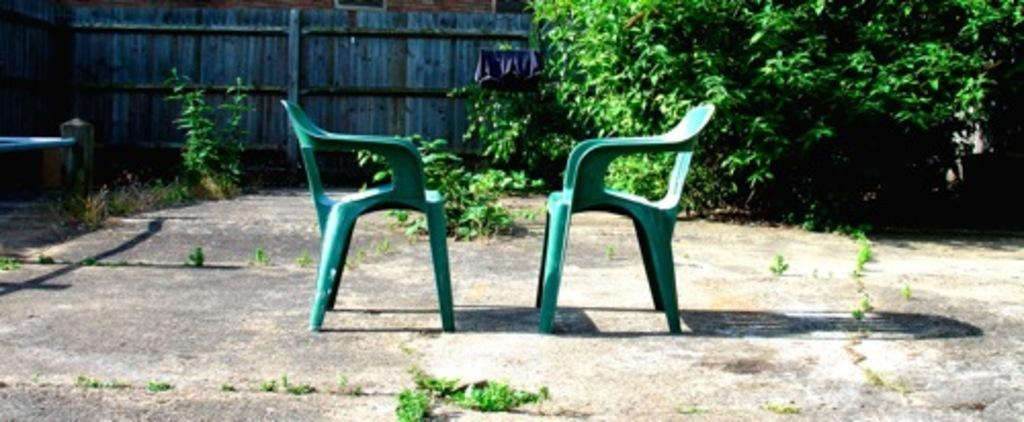Chair: (537, 100, 727, 336), (283, 96, 455, 330)
